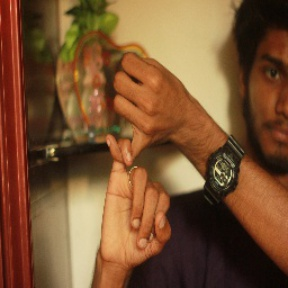S: (97, 48, 190, 259)
